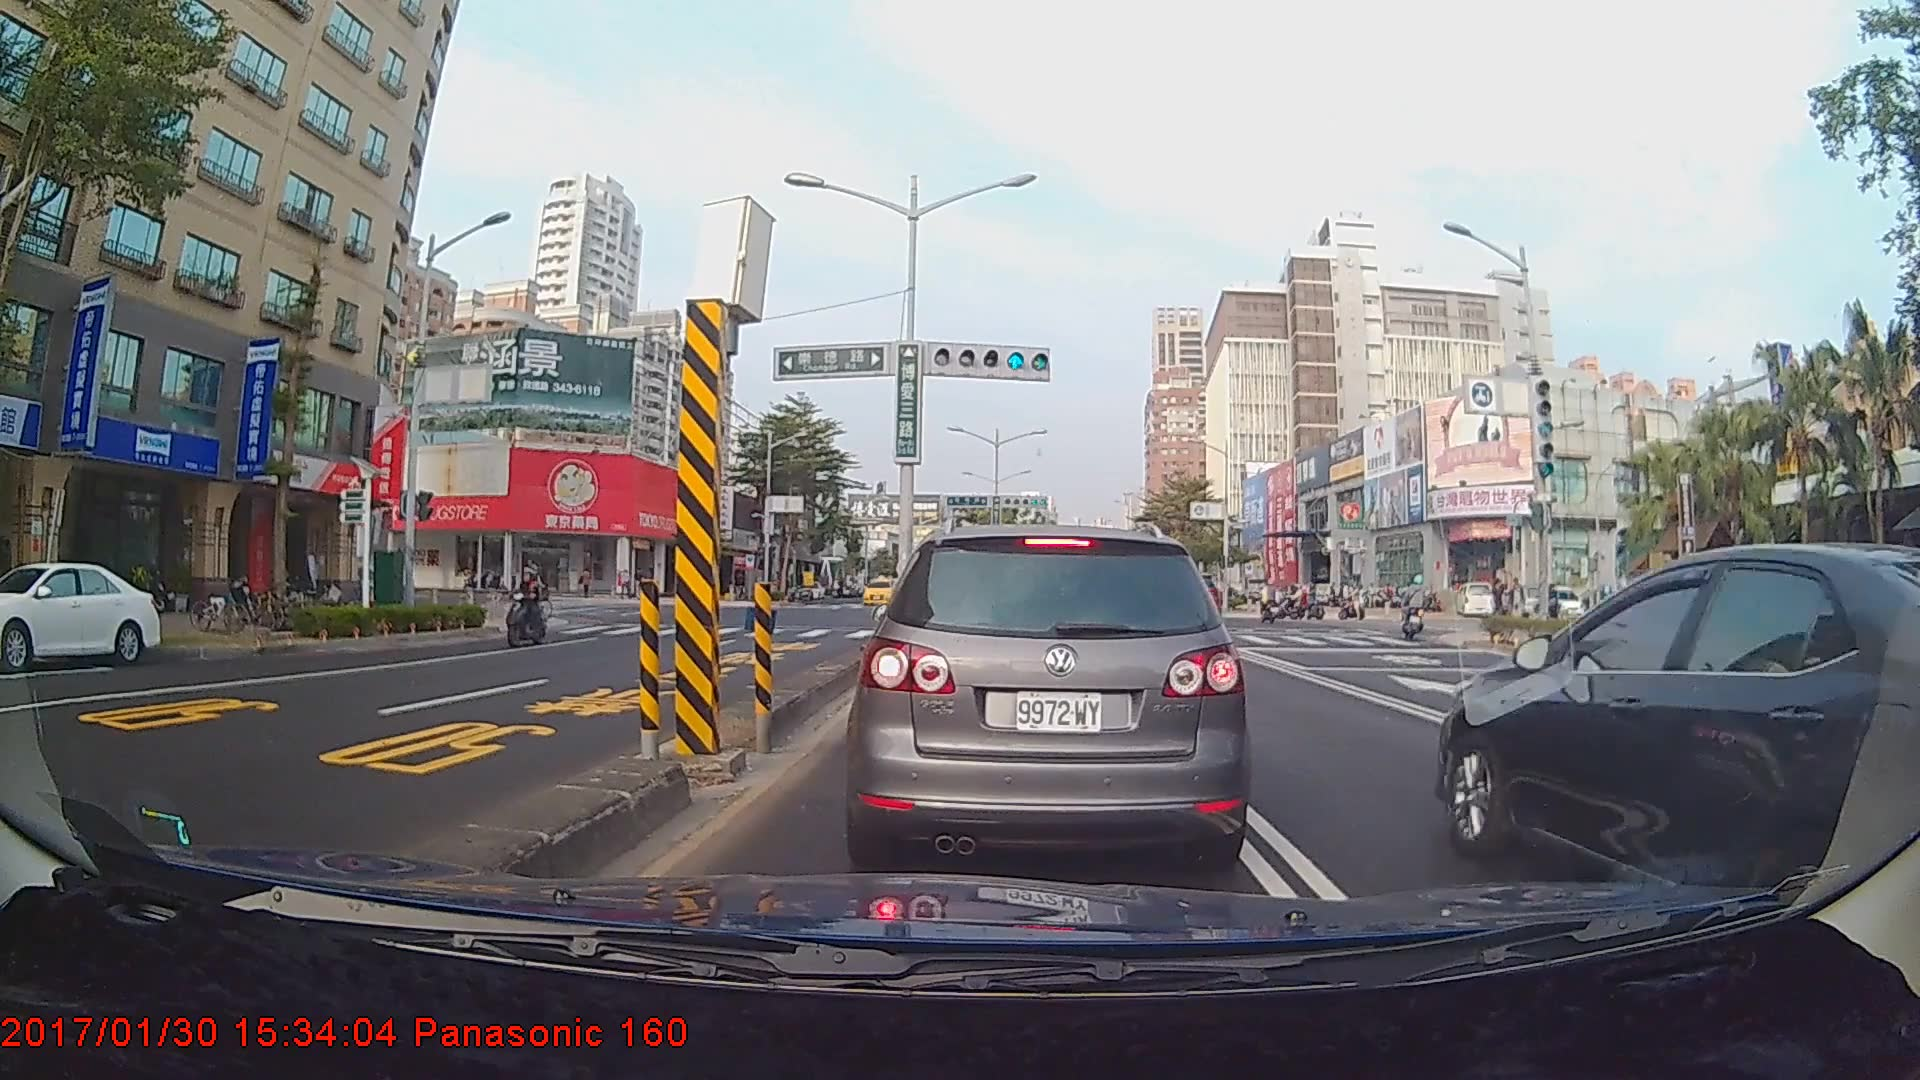rider: (502, 565, 555, 651), (1396, 573, 1437, 642), (1250, 574, 1279, 631)
vehicle: (1432, 531, 1920, 899), (858, 521, 1244, 867), (0, 561, 162, 671)
